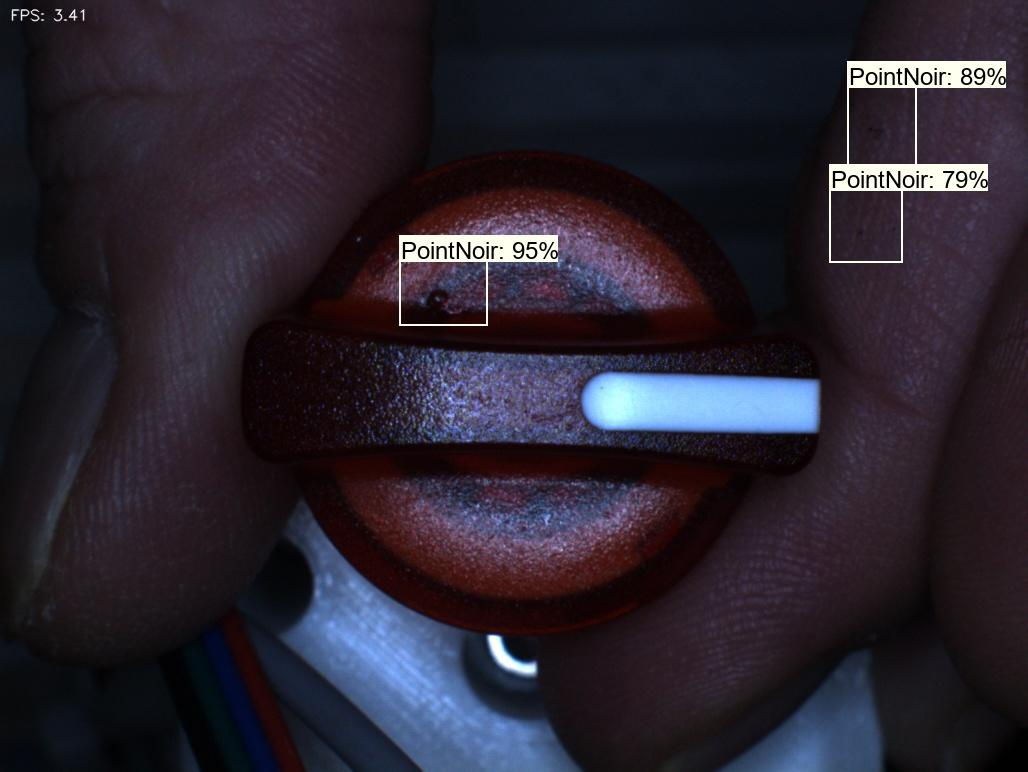Choc: (402, 263, 483, 336)
